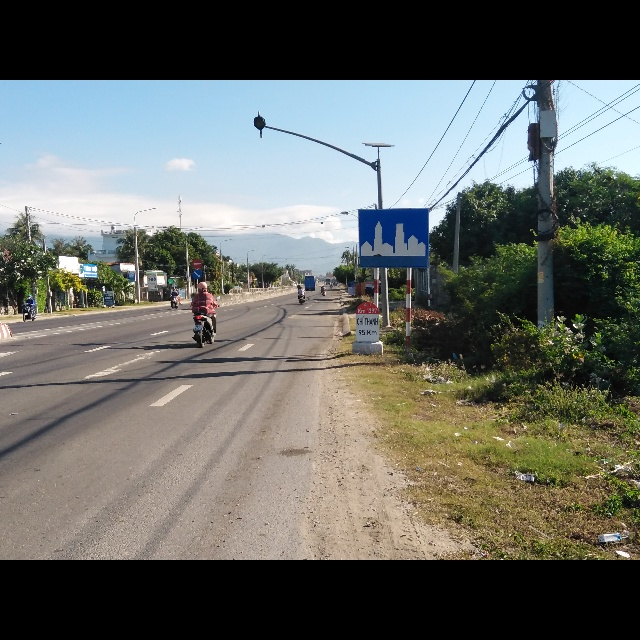Khu đông dân cư: (358, 209, 428, 269)
